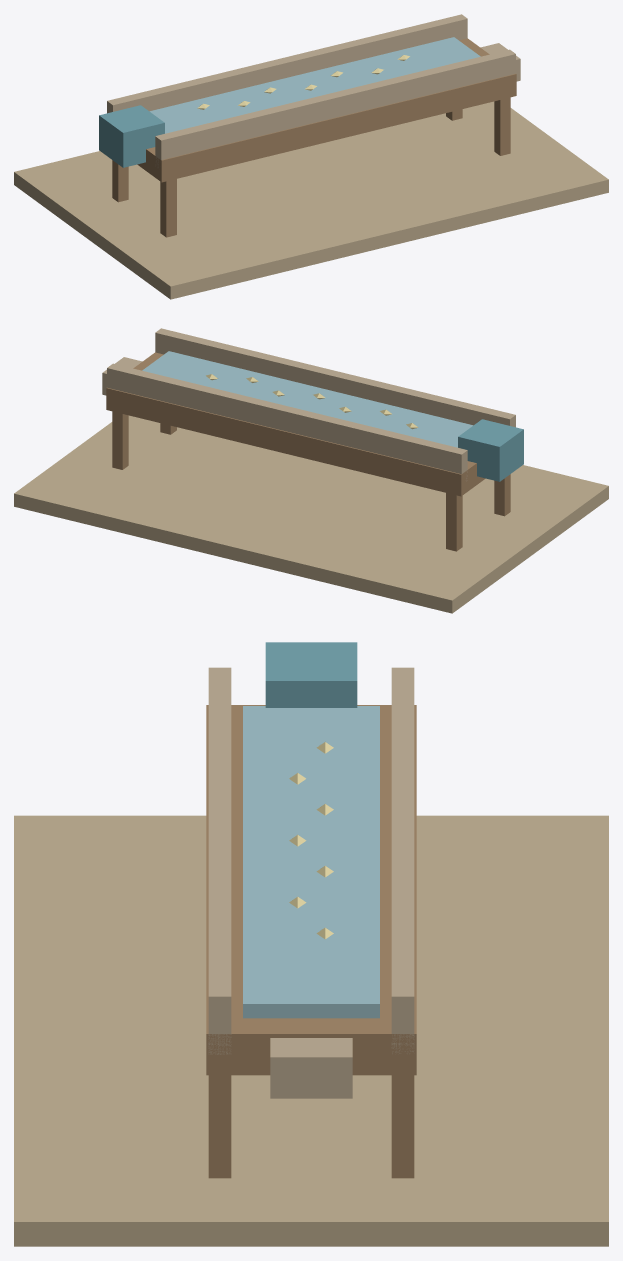
Rendered from cafe_estacion_03_lavado.glb.
3 views of the same model, one above another, from view 1: azimuth 30°, elevation 25°; view 2: azimuth 150°, elevation 25°; view 3: azimuth 270°, elevation 25° (orthographic). The views are drawn at different scales.
Visible parts, largest first — view 1: model; view 2: model; view 3: model.
Boxes of the visible parts, <box> form: model: <box>14,14,608,299</box>; model: <box>14,328,608,613</box>; model: <box>14,642,608,1246</box>.
Bounding box in the file's own units: 2.1 × 0.52 × 1.3.
